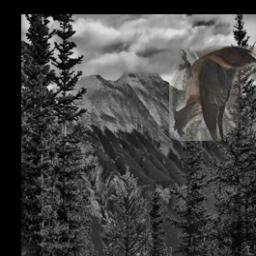Swallow: (169, 46, 256, 141)
